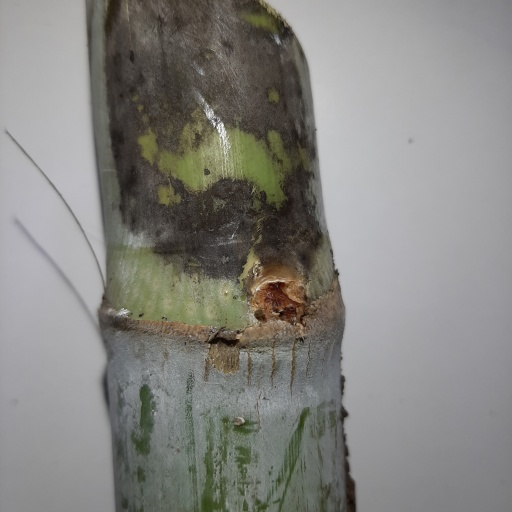Damage_Bud: (253, 263, 307, 321)
